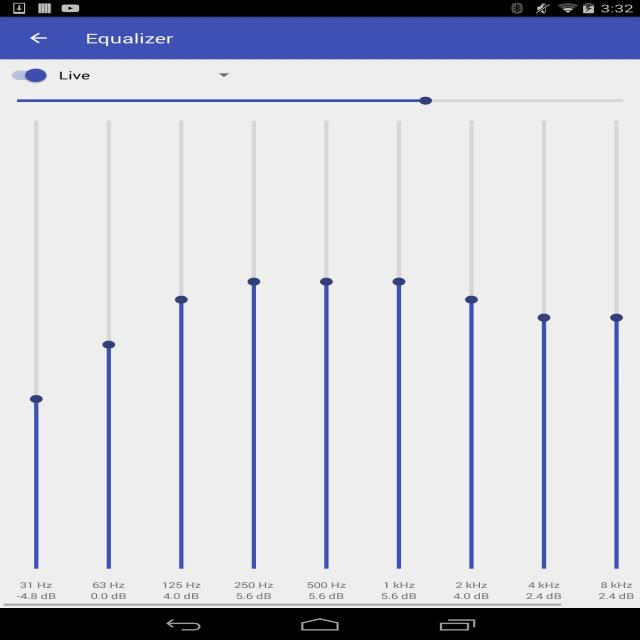button: (512, 115, 572, 574), (80, 110, 133, 576), (378, 112, 424, 576), (448, 115, 492, 573), (232, 110, 273, 572), (160, 115, 201, 576), (17, 116, 57, 572), (592, 112, 631, 573), (309, 111, 347, 574), (9, 90, 634, 109), (58, 71, 231, 83), (8, 66, 48, 86), (26, 28, 54, 50)
text: (13, 578, 640, 602)
